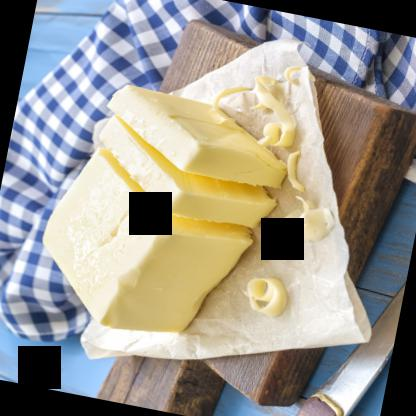butter: (26, 141, 268, 348), (86, 108, 294, 233), (98, 75, 302, 190)
